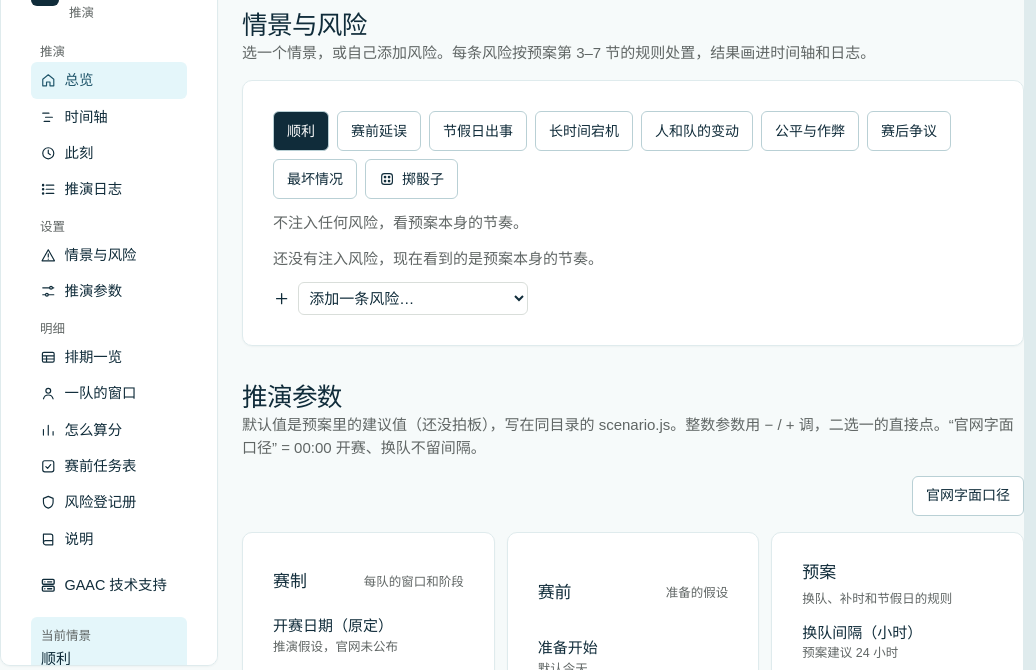
Test: sandbox controls › injects and edits a risk, then injects another from the register
The width and height of the screenshot is (1036, 670).
(page scrolled)
Select "机器宕机" in the dropdown named "添加风险" at (413, 298), box x1=298 y1=282 x2=528 y2=315
(page scrolled)
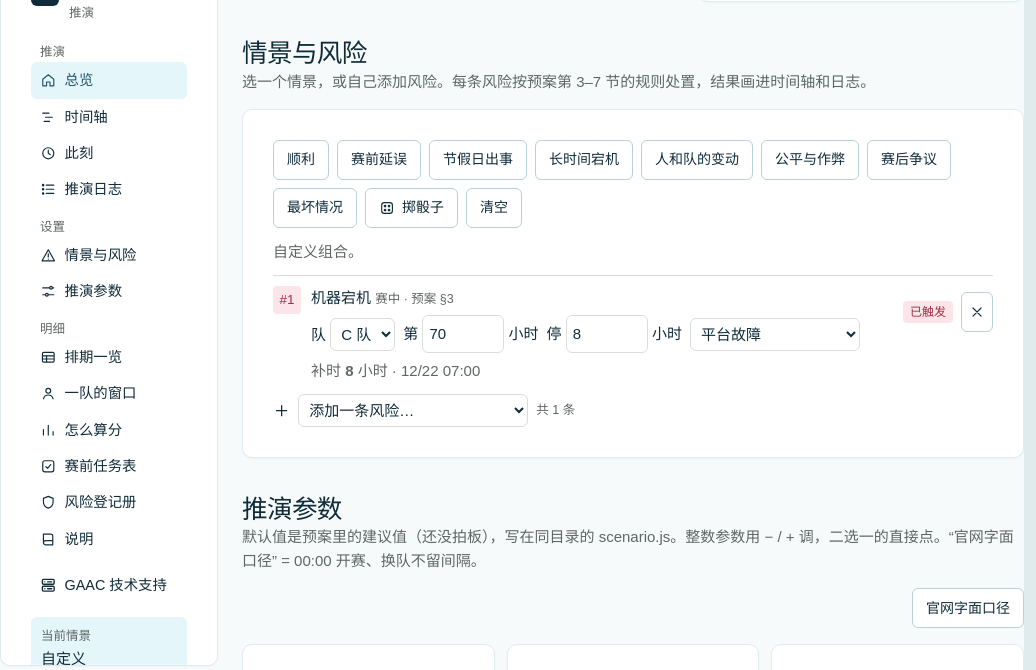
Result: the text "机器宕机" is shown at x1=311 y1=289 x2=371 y2=306
Replace the text in the number field labelled "停" with "30" at (607, 334), box x1=566 y1=316 x2=648 y2=353
(page scrolled)
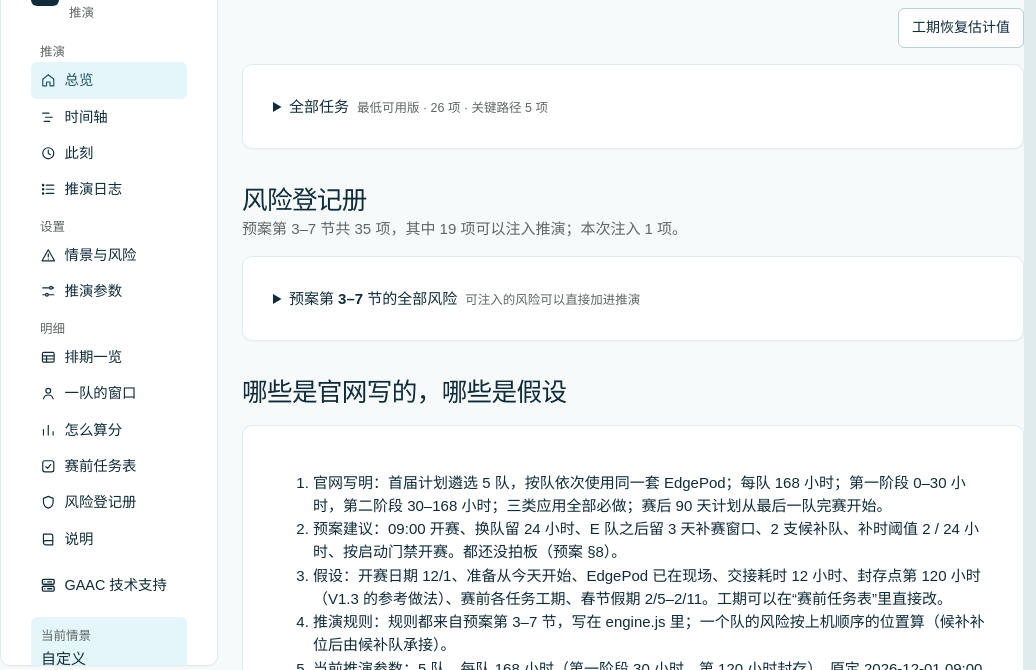
Click the text "预案第 3–7 节的全部风险".
click(373, 298)  # box x1=289 y1=290 x2=457 y2=307
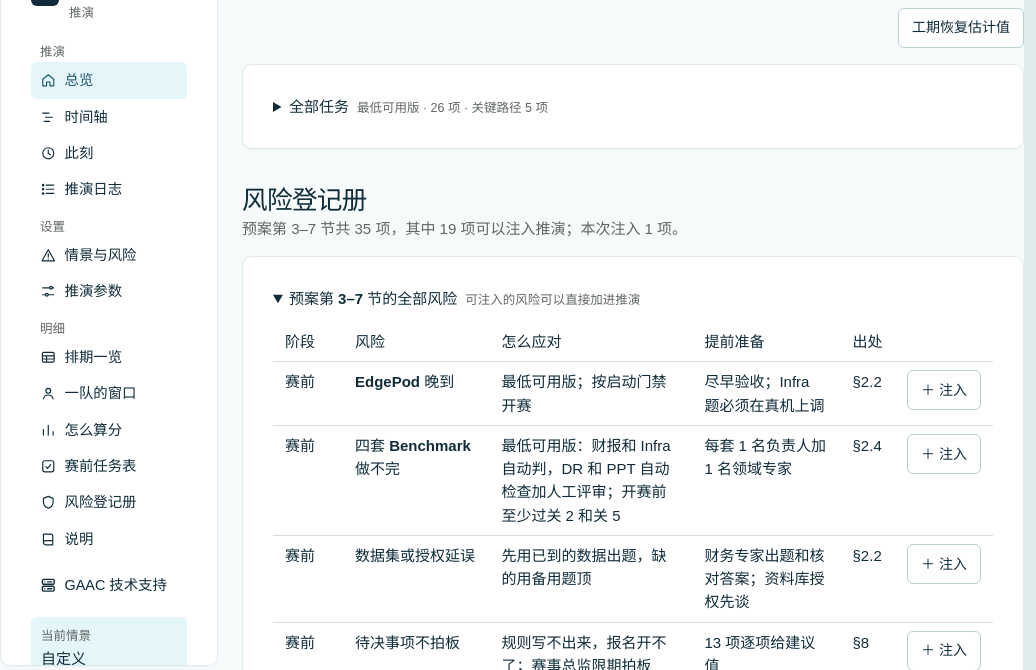
Click the button "＋ 注入" in the row of "EdgePod 晚到".
click(944, 390)  # box x1=907 y1=370 x2=981 y2=410
(page scrolled)
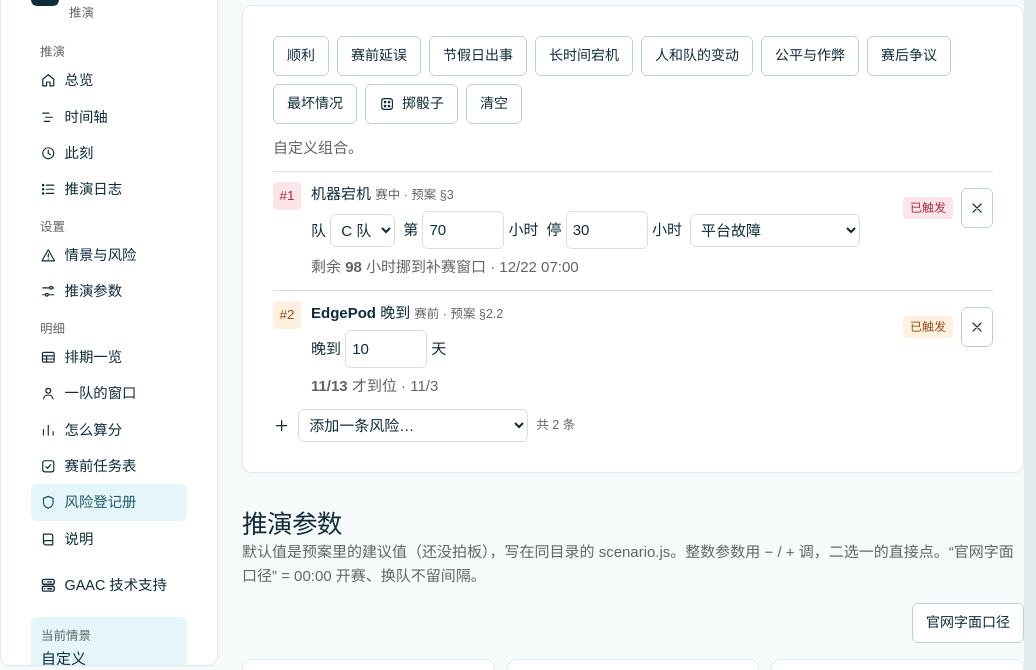
Result: the number of buttons named "删除这条风险" is 2 at x1=961 y1=188 x2=993 y2=228; x1=961 y1=307 x2=993 y2=347
